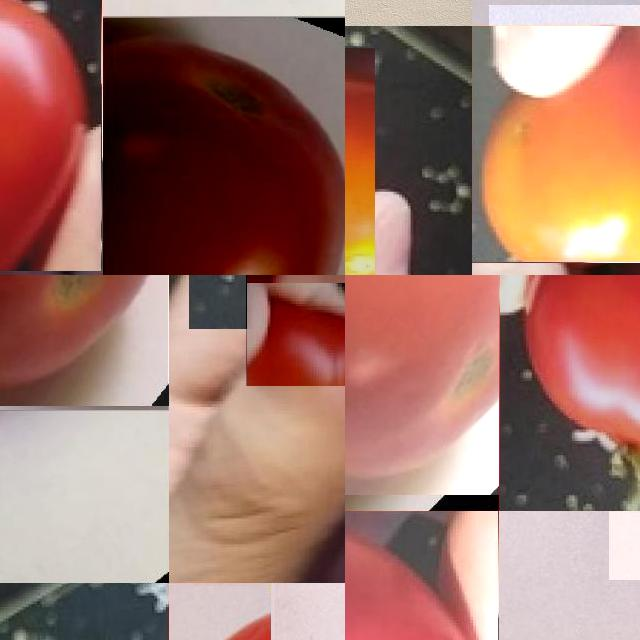0: (472, 26, 640, 262)
Fresh Tomato: (103, 16, 345, 275), (345, 275, 499, 495), (499, 275, 640, 511), (0, 0, 103, 271), (0, 275, 169, 410), (345, 511, 499, 640), (246, 275, 345, 386)
Rotten Tomato: (169, 583, 271, 640)
